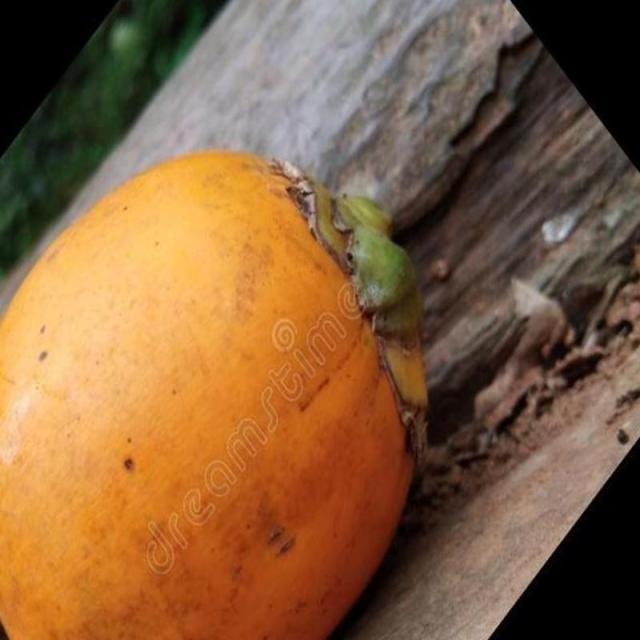good: (1, 149, 426, 639)
